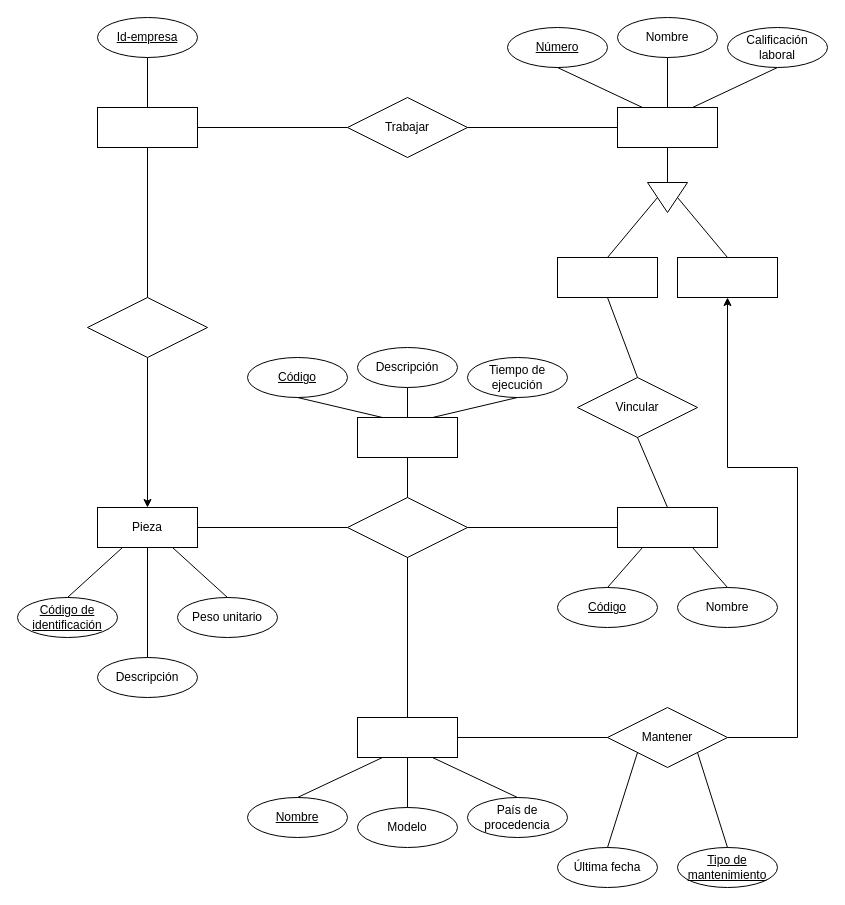
This 845x905 diagram has some shape labels left out. Each missing label, with the centre of its shape:
Auxiliar: [727,277]
Directo: [607,277]
Empresa: [147,127]
Equipo: [407,737]
Fabricar: [147,327]
Norma: [407,437]
Obrero: [667,127]
Operación: [667,527]
Realizar: [407,527]
